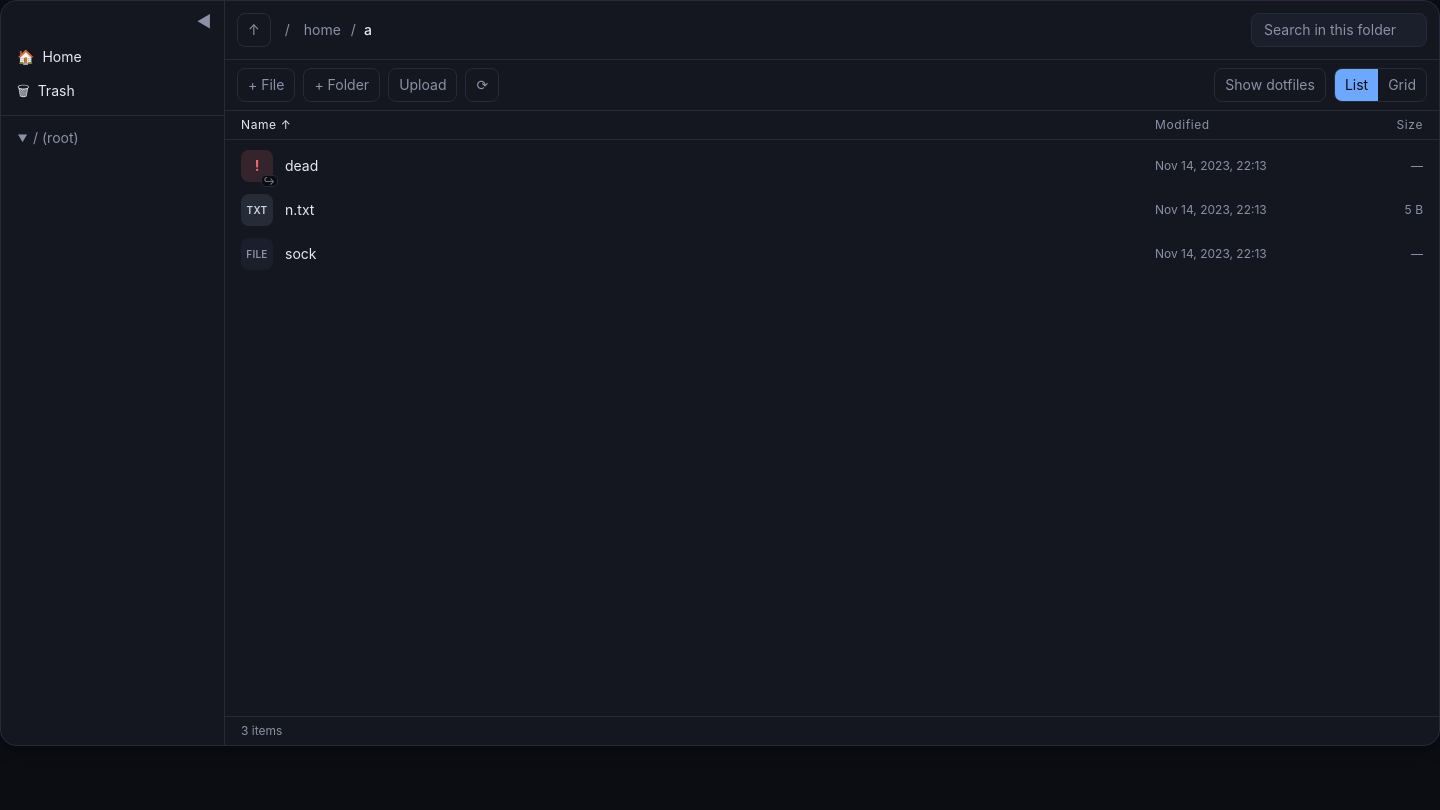
Test: Files page › tells the user when copying is blocked, and when an entry cannot be opened
Right-click the option "TXT n.txt Nov 14, 2023, 22:13 5 B" at (257, 210), box [229,188,1435,232]
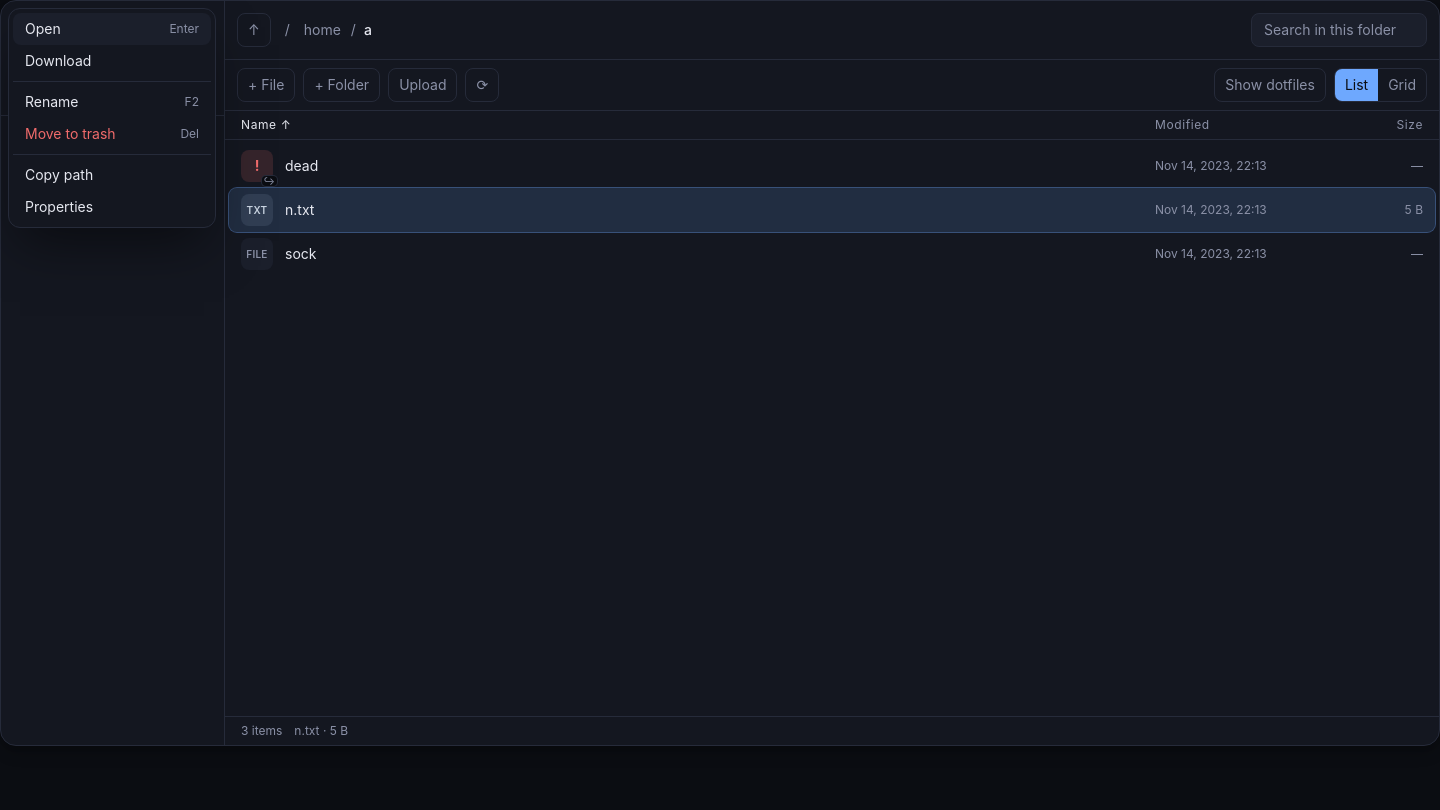
Click the menu item "Copy path" at (112, 175), box [13,159,211,191]
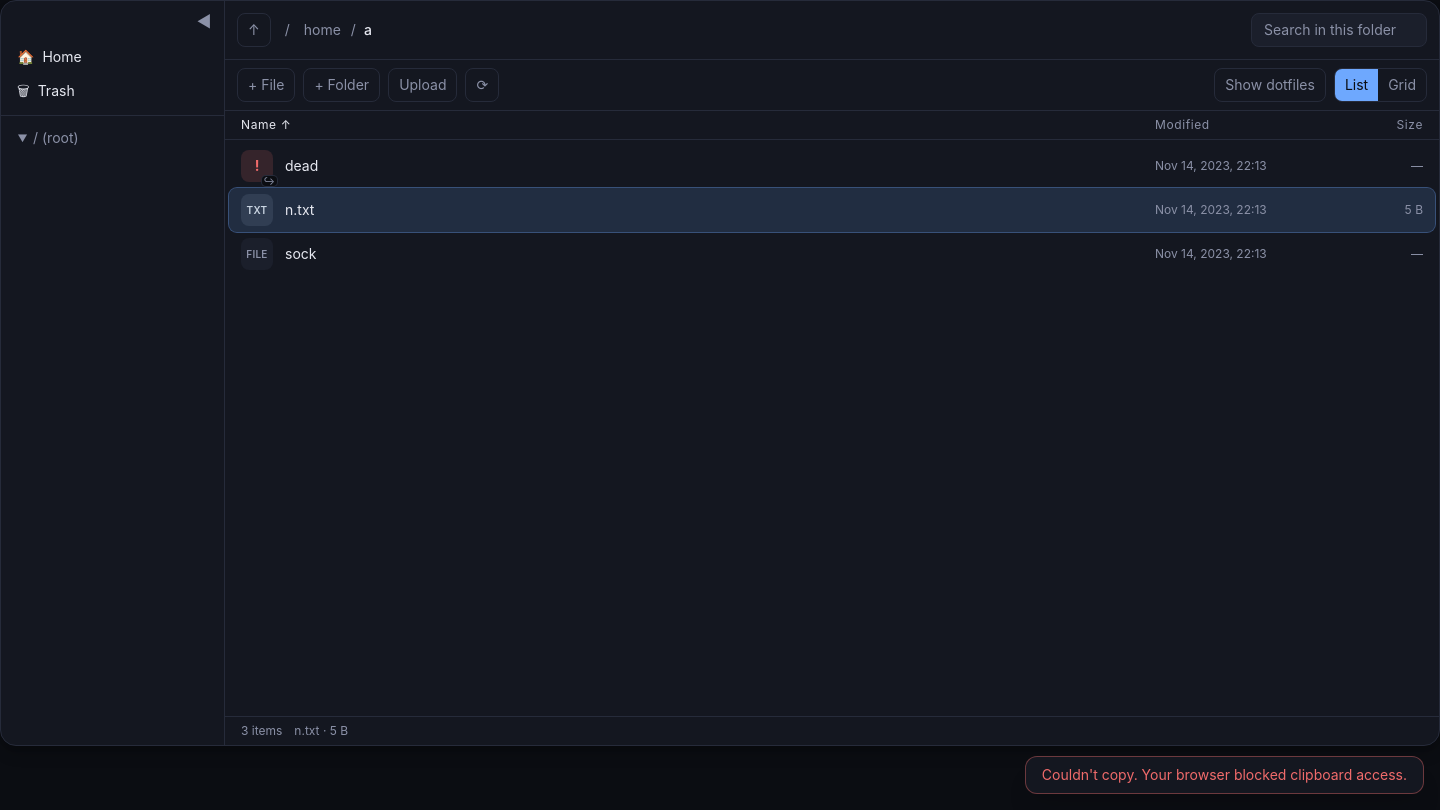
expect the text "Couldn't copy. Your browser blocked clipboard access." is shown: met, box [1025,756,1424,794]
Double-click the option "! ↪ dead Nov 14, 2023, 22:13 —" at (257, 166), box [229,144,1435,188]
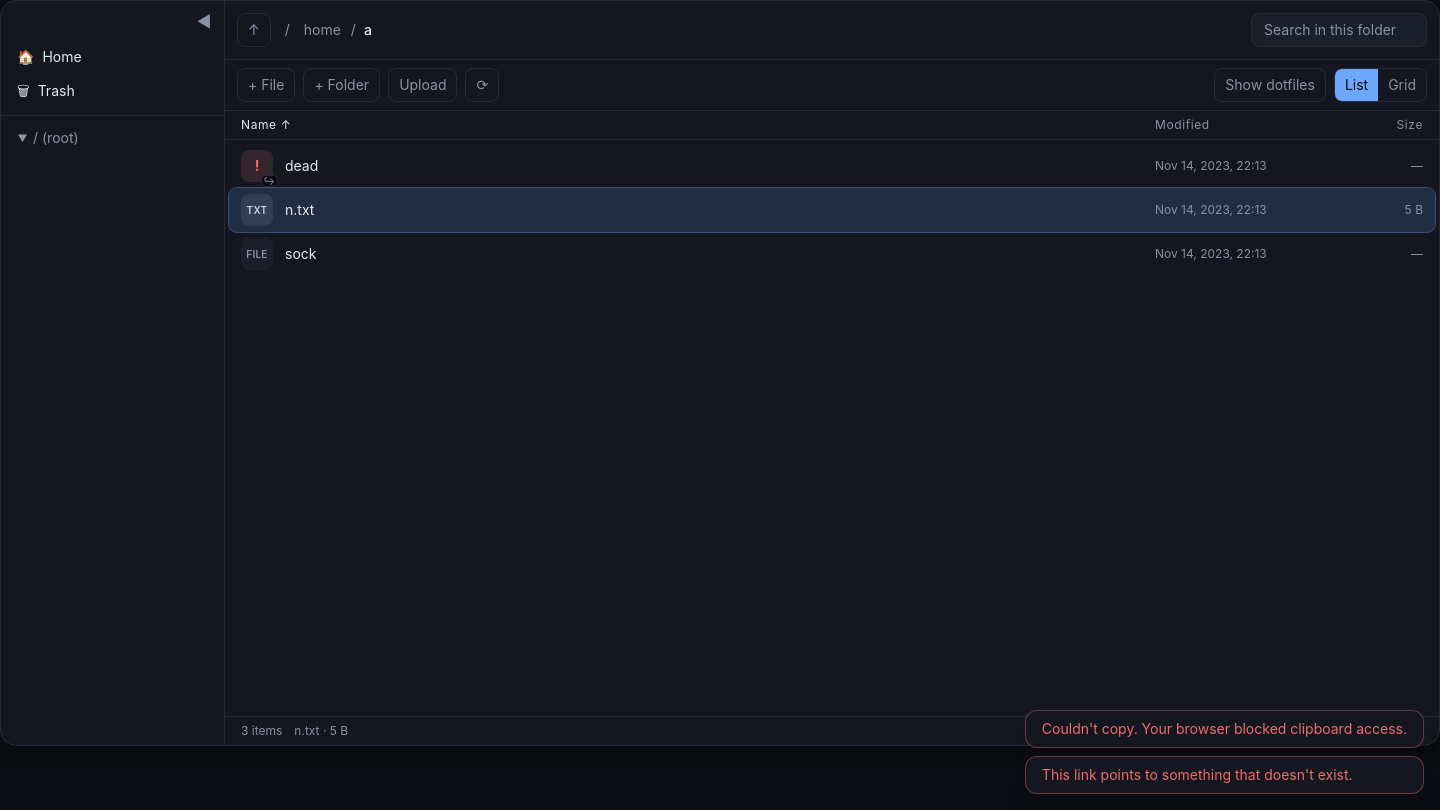
expect the text "This link points to something that doesn't exist." is shown: met, box [1025,756,1424,794]
Double-click the option "FILE sock Nov 14, 2023, 22:13 —" at (257, 254), box [229,232,1435,276]
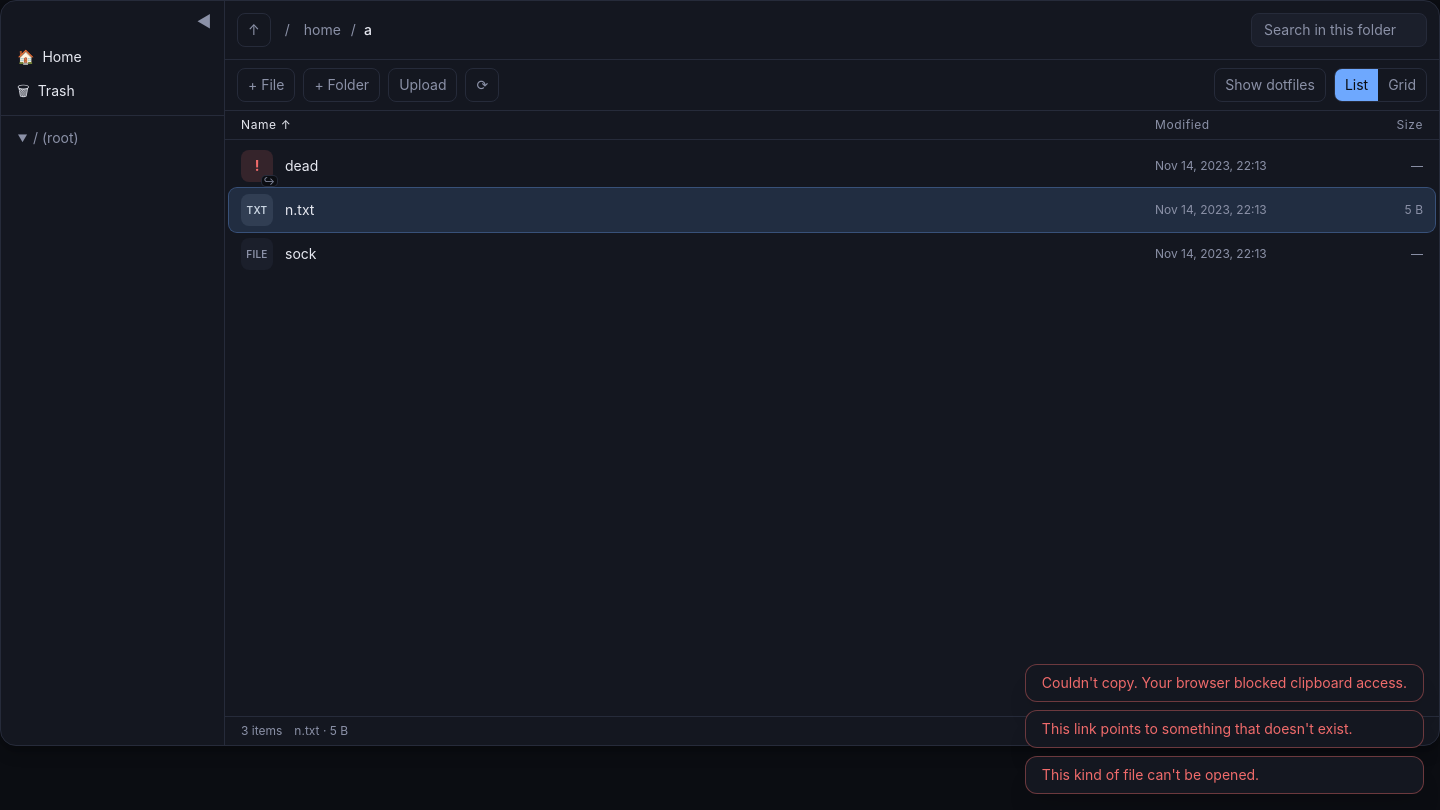
expect the text "This kind of file can't be opened." is shown: met, box [1025,756,1424,794]
